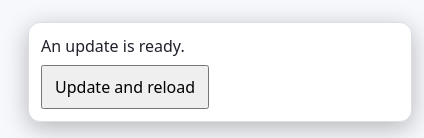
offers a guarded reload if the requested worker takes control after the timeout
Later steps or results of the test are not shown.
Click the button "Update and reload" at (125, 87), box [41,65,209,109]
Wait 15000 ms
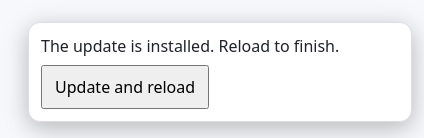
Now the element showing "The update is installed. Reload to finish. Update and reload" is shown
